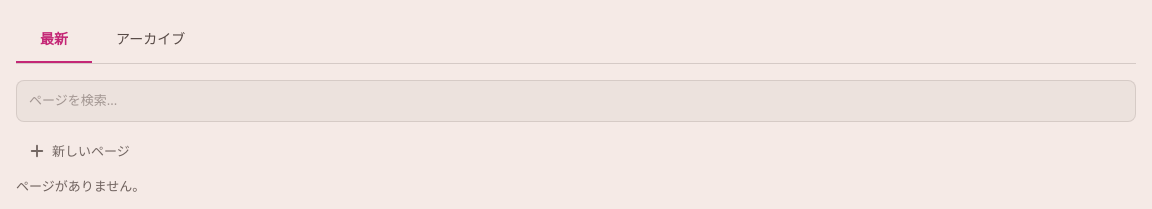
Sidebar › page list rendering › shows empty archive message when no archives exist
This screenshot has width=1152, height=209.
Step 1. Click the tab "アーカイブ" → x=151, y=40, box [92,16,209,63]
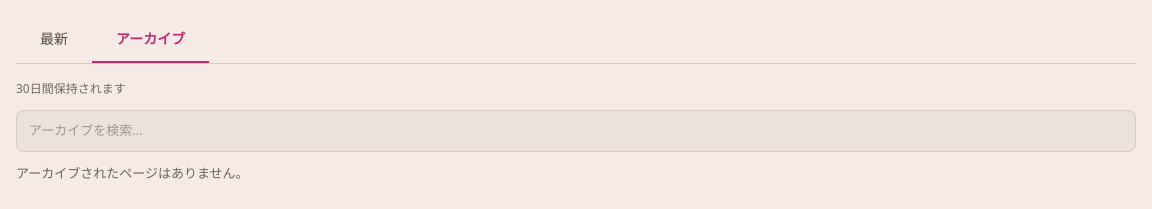
Expected: the text "アーカイブされたページはありません。" is shown, [16,164,249,182]
